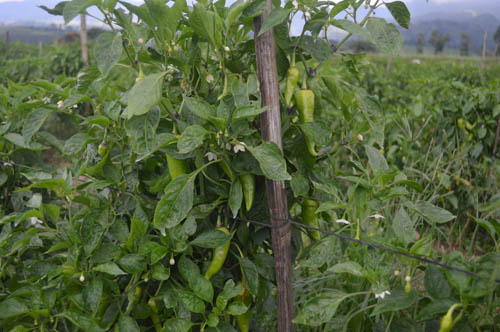ChiliPepper: (298, 85, 326, 164), (159, 131, 195, 184), (231, 282, 260, 332), (203, 226, 230, 279), (278, 53, 297, 112), (305, 197, 325, 244), (239, 170, 258, 213)
